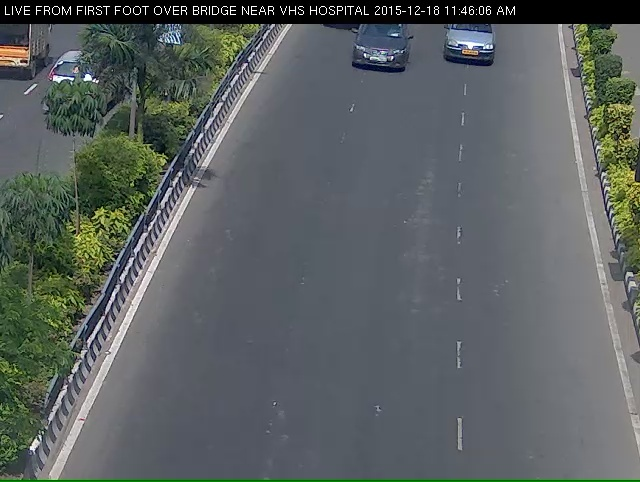Car: (341, 20, 415, 90), (436, 17, 503, 81)
